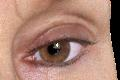eye: (40, 41, 70, 62)
